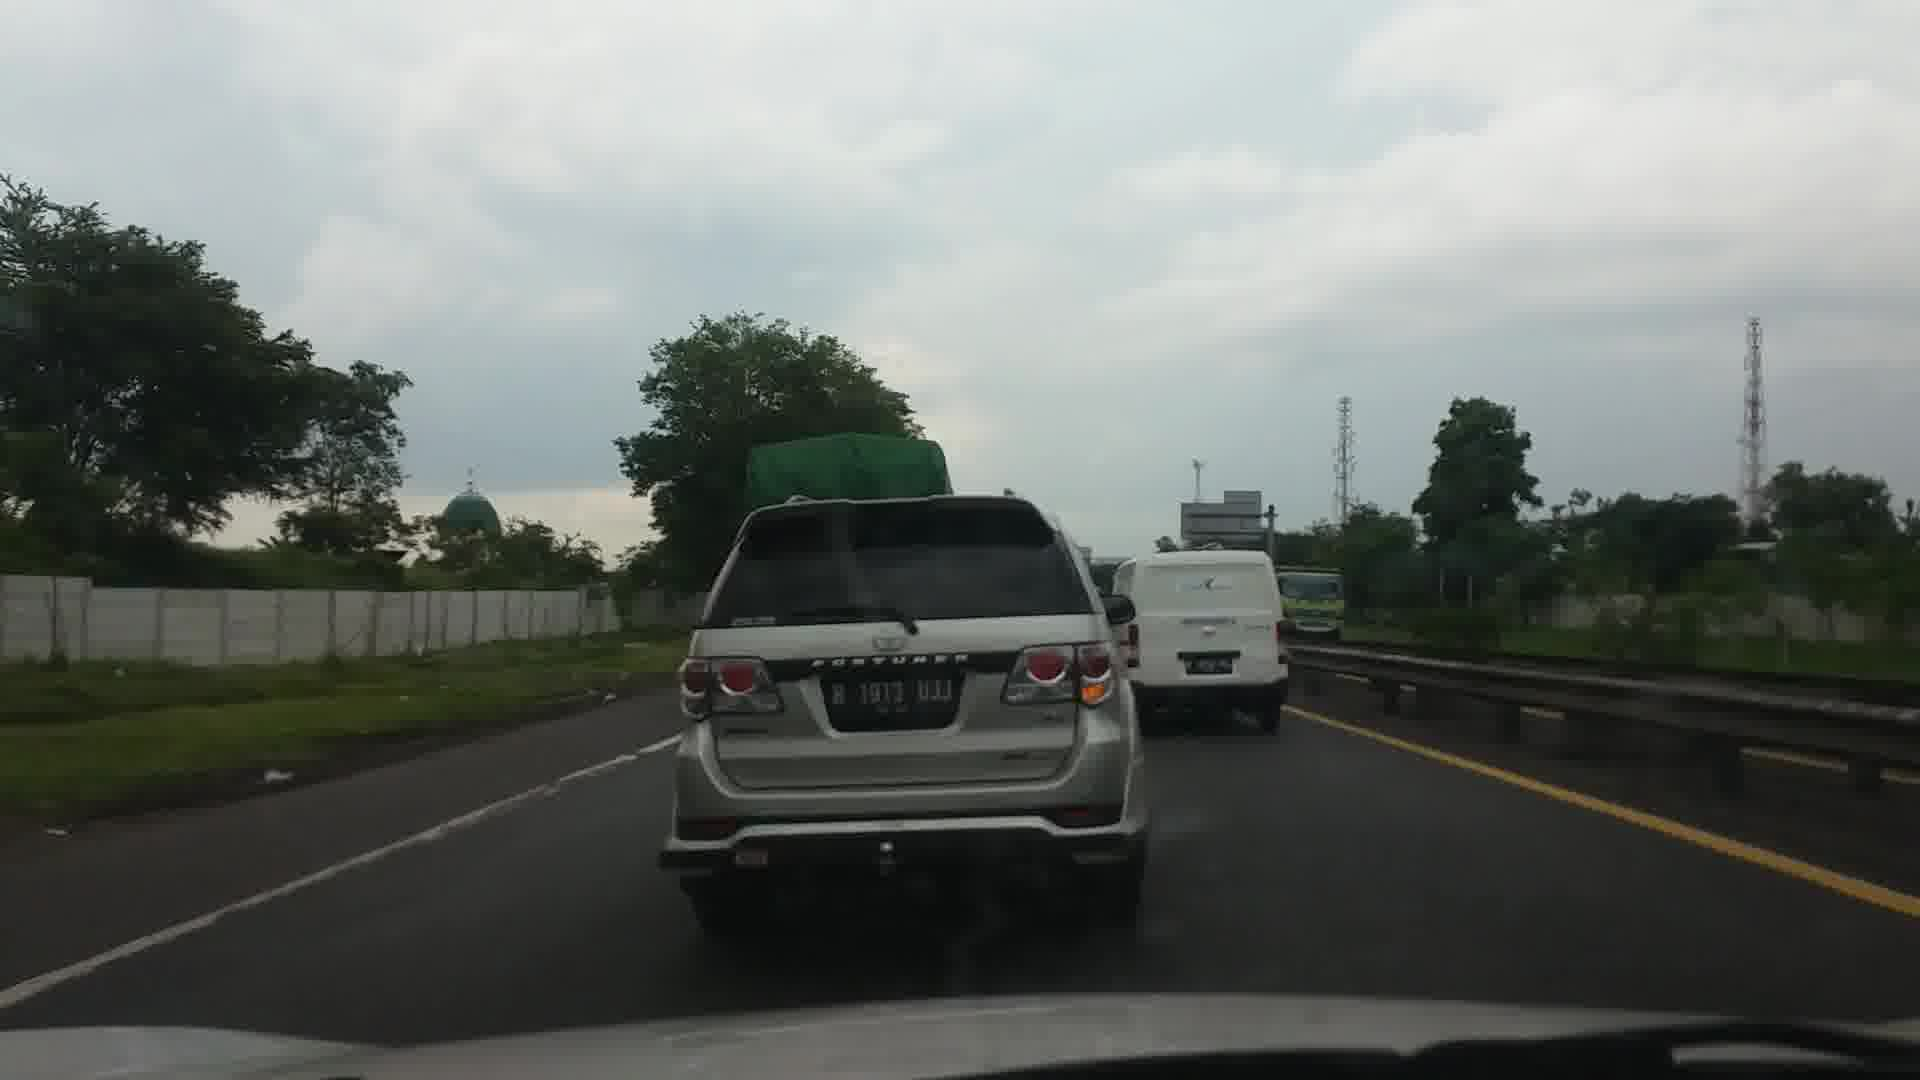plate_positive: (825, 674, 957, 716)
